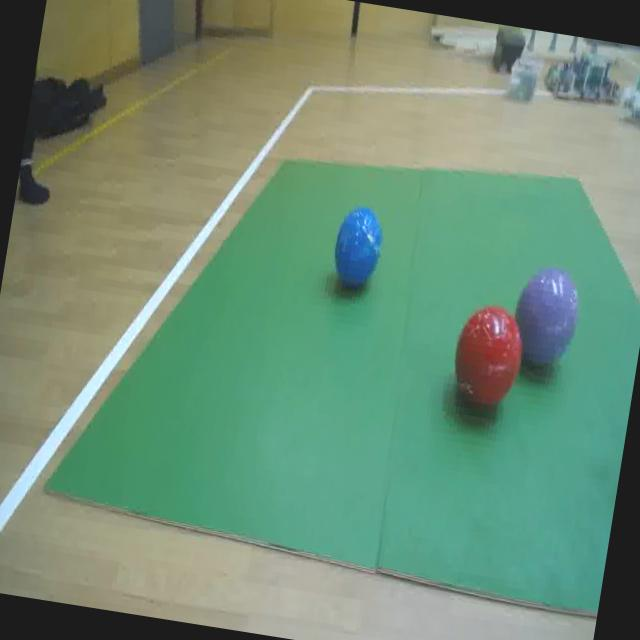blue_ball: (327, 196, 391, 308)
purple_ball: (508, 242, 602, 380)
red_ball: (442, 286, 540, 418)
